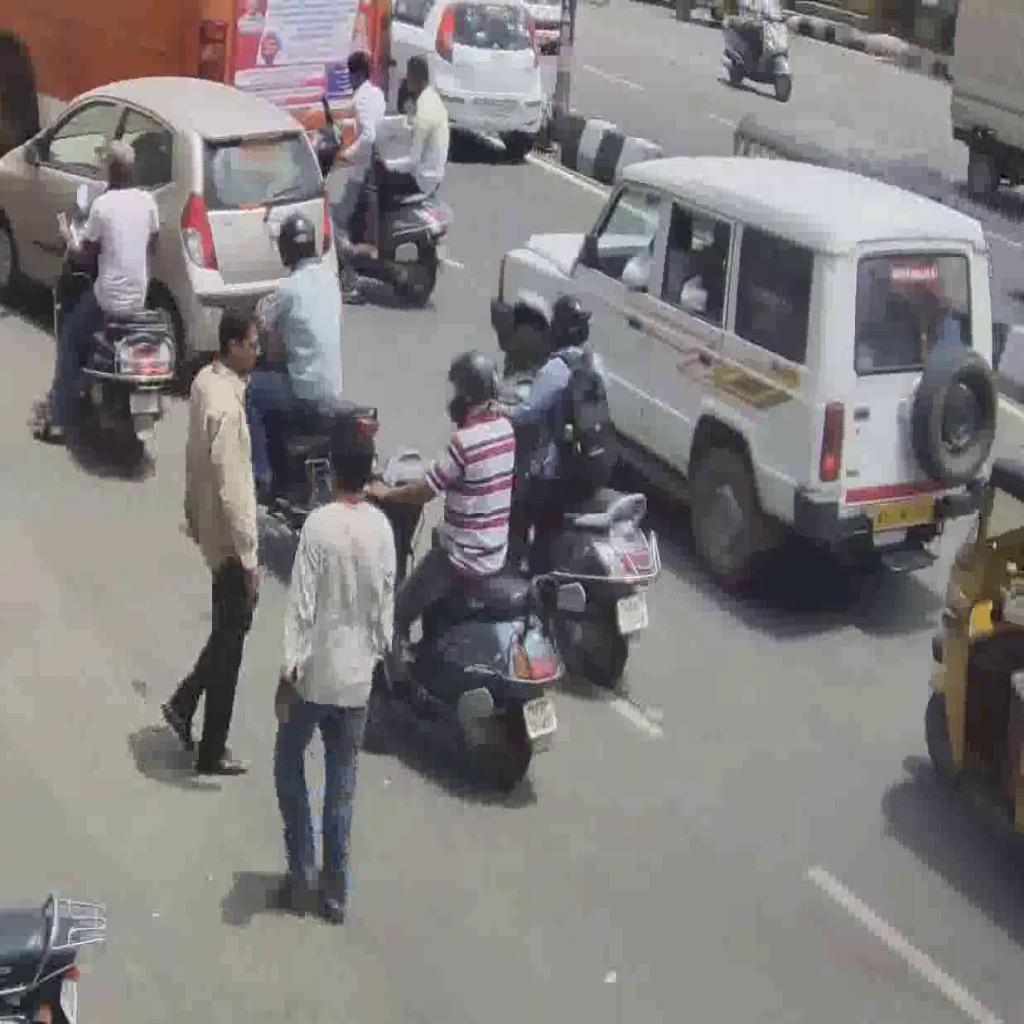helmet: (358, 456, 564, 792), (46, 214, 179, 471), (526, 462, 669, 698), (308, 135, 454, 302)
